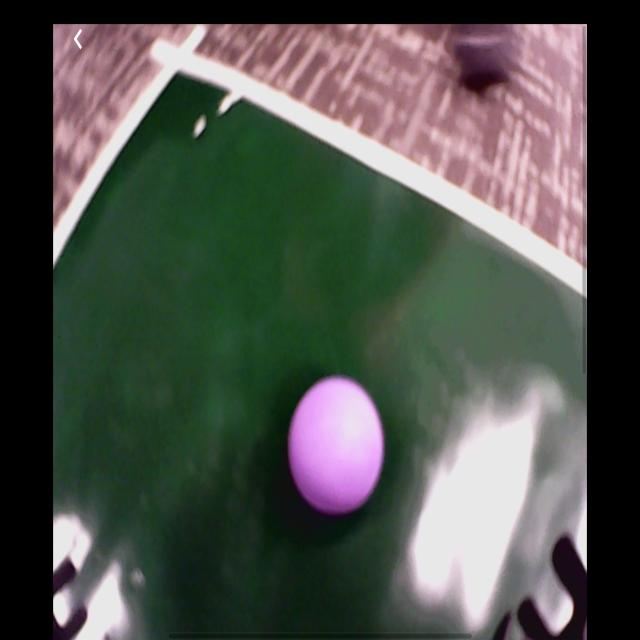ball: (288, 375, 385, 522)
